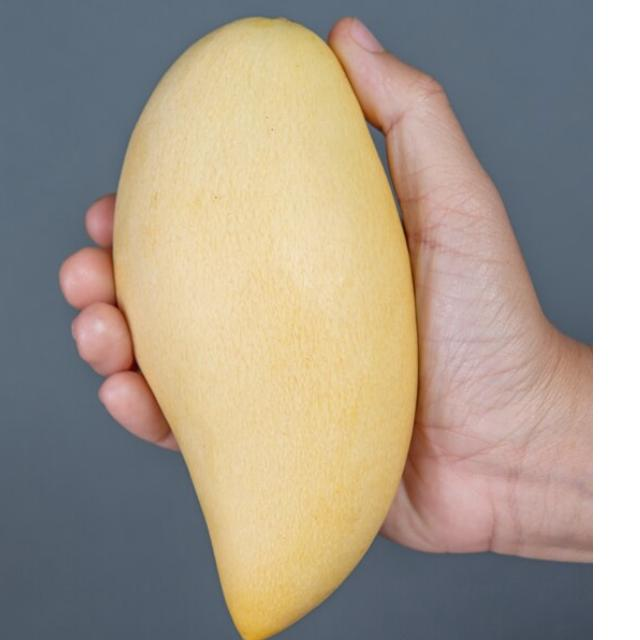mango: (116, 15, 423, 640)
